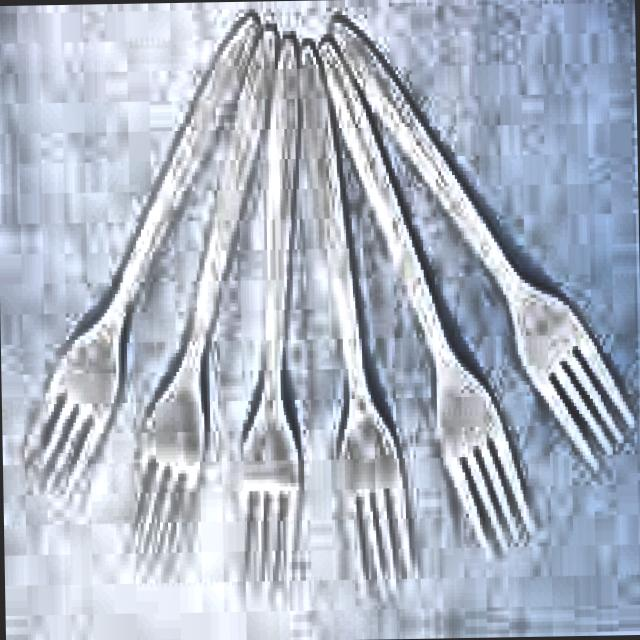plastic utensil: (333, 19, 633, 467), (24, 17, 260, 502), (319, 42, 526, 548), (139, 34, 274, 555), (300, 44, 412, 578), (242, 37, 299, 579)
